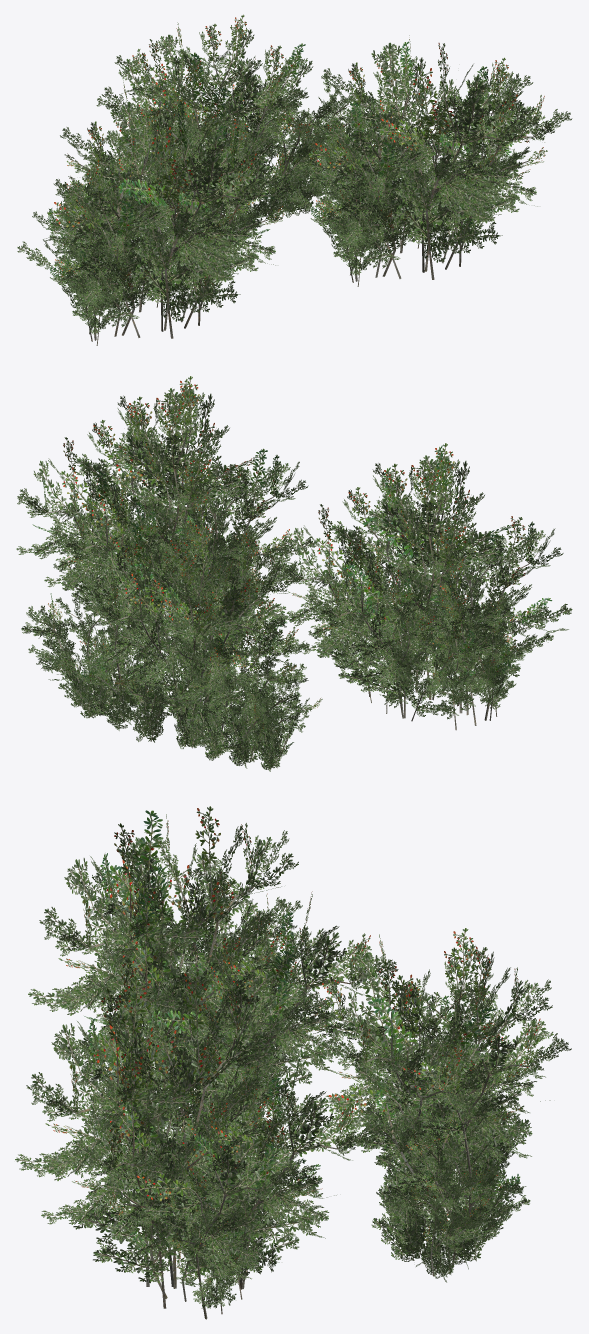
The model's file is 04 Lycium Shawii Shrubs.FBX.
3 renders of one model, top to bottom at view 1: azimuth 30°, elevation 25°; view 2: azimuth 150°, elevation 25°; view 3: azimuth 270°, elevation 25°, orthographic. The views are drawn at different scales.
Visible parts, largest first — view 1: Lycium_Shawii_Shrubs_03, Lycium_Shawii_Shrubs_02, Lycium_Shawii_Shrubs_01; view 2: Lycium_Shawii_Shrubs_03, Lycium_Shawii_Shrubs_01, Lycium_Shawii_Shrubs_02; view 3: Lycium_Shawii_Shrubs_02, Lycium_Shawii_Shrubs_03, Lycium_Shawii_Shrubs_01.
Boxes of the visible parts, x1,y1,x2,y2 form: Lycium_Shawii_Shrubs_03: [17, 96, 311, 345]; Lycium_Shawii_Shrubs_02: [280, 35, 572, 286]; Lycium_Shawii_Shrubs_01: [64, 14, 355, 239]; Lycium_Shawii_Shrubs_03: [271, 443, 572, 730]; Lycium_Shawii_Shrubs_01: [21, 520, 322, 771]; Lycium_Shawii_Shrubs_02: [16, 376, 316, 650]; Lycium_Shawii_Shrubs_02: [15, 971, 385, 1319]; Lycium_Shawii_Shrubs_03: [28, 806, 398, 1131]; Lycium_Shawii_Shrubs_01: [297, 928, 571, 1282].
Size of the model in its own units: 155 by 71.27 by 113.
